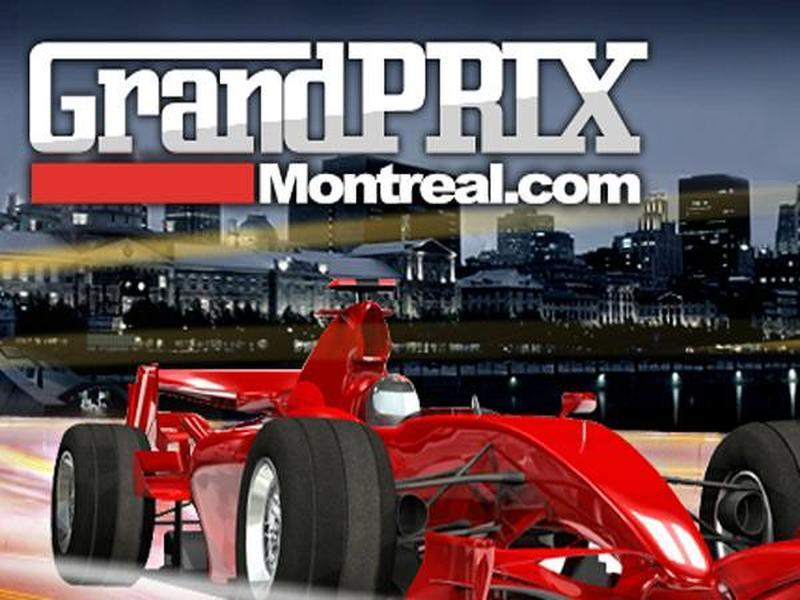f1: (48, 296, 781, 600)
